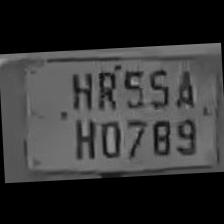0: (94, 113, 120, 158)
5: (116, 61, 145, 109), (142, 61, 171, 108)
7: (120, 113, 144, 159)
8: (146, 113, 172, 156)
9: (170, 111, 199, 156)
A: (169, 60, 196, 108)
H: (67, 112, 97, 162), (65, 66, 94, 111)
R: (91, 64, 118, 110)
